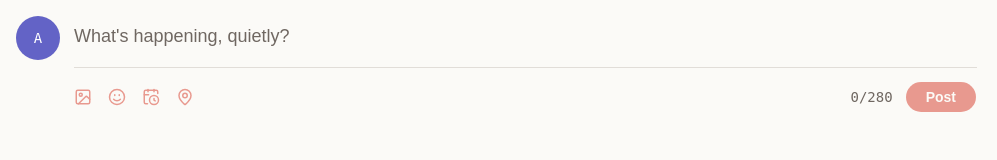
Test: Composer › submitting › clears the error once the text is edited
Expected: the picture named "@ada" is shown, [16,16,60,60]
In the text box named "Compose a new post": (526,38) [74,16,977,59], type "Hello flock"
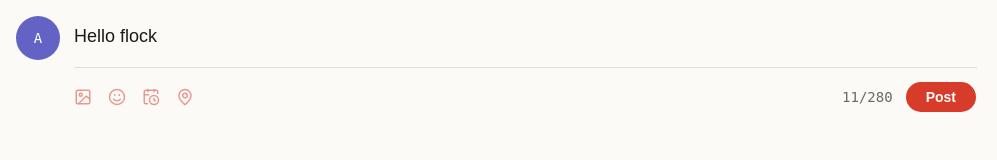
Click the button "Post": (941,97) [905,81,977,113]
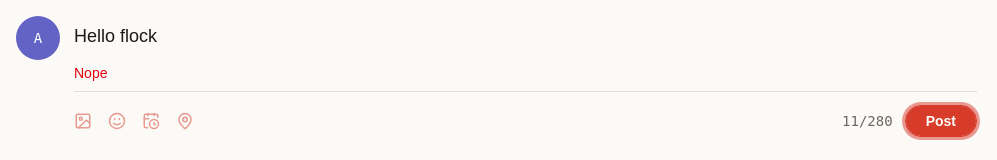
Now the message reads "Nope", box [74,65,108,81]
In the text box named "Compose a new post": (526,38) [74,16,977,59], type "!"
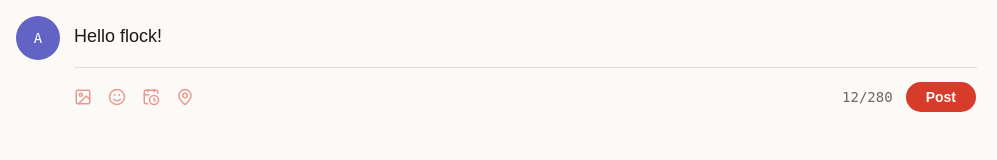
Now the message "Nope" is gone
Now the text box named "Compose a new post" holds "Hello flock!", box [74,16,977,59]
